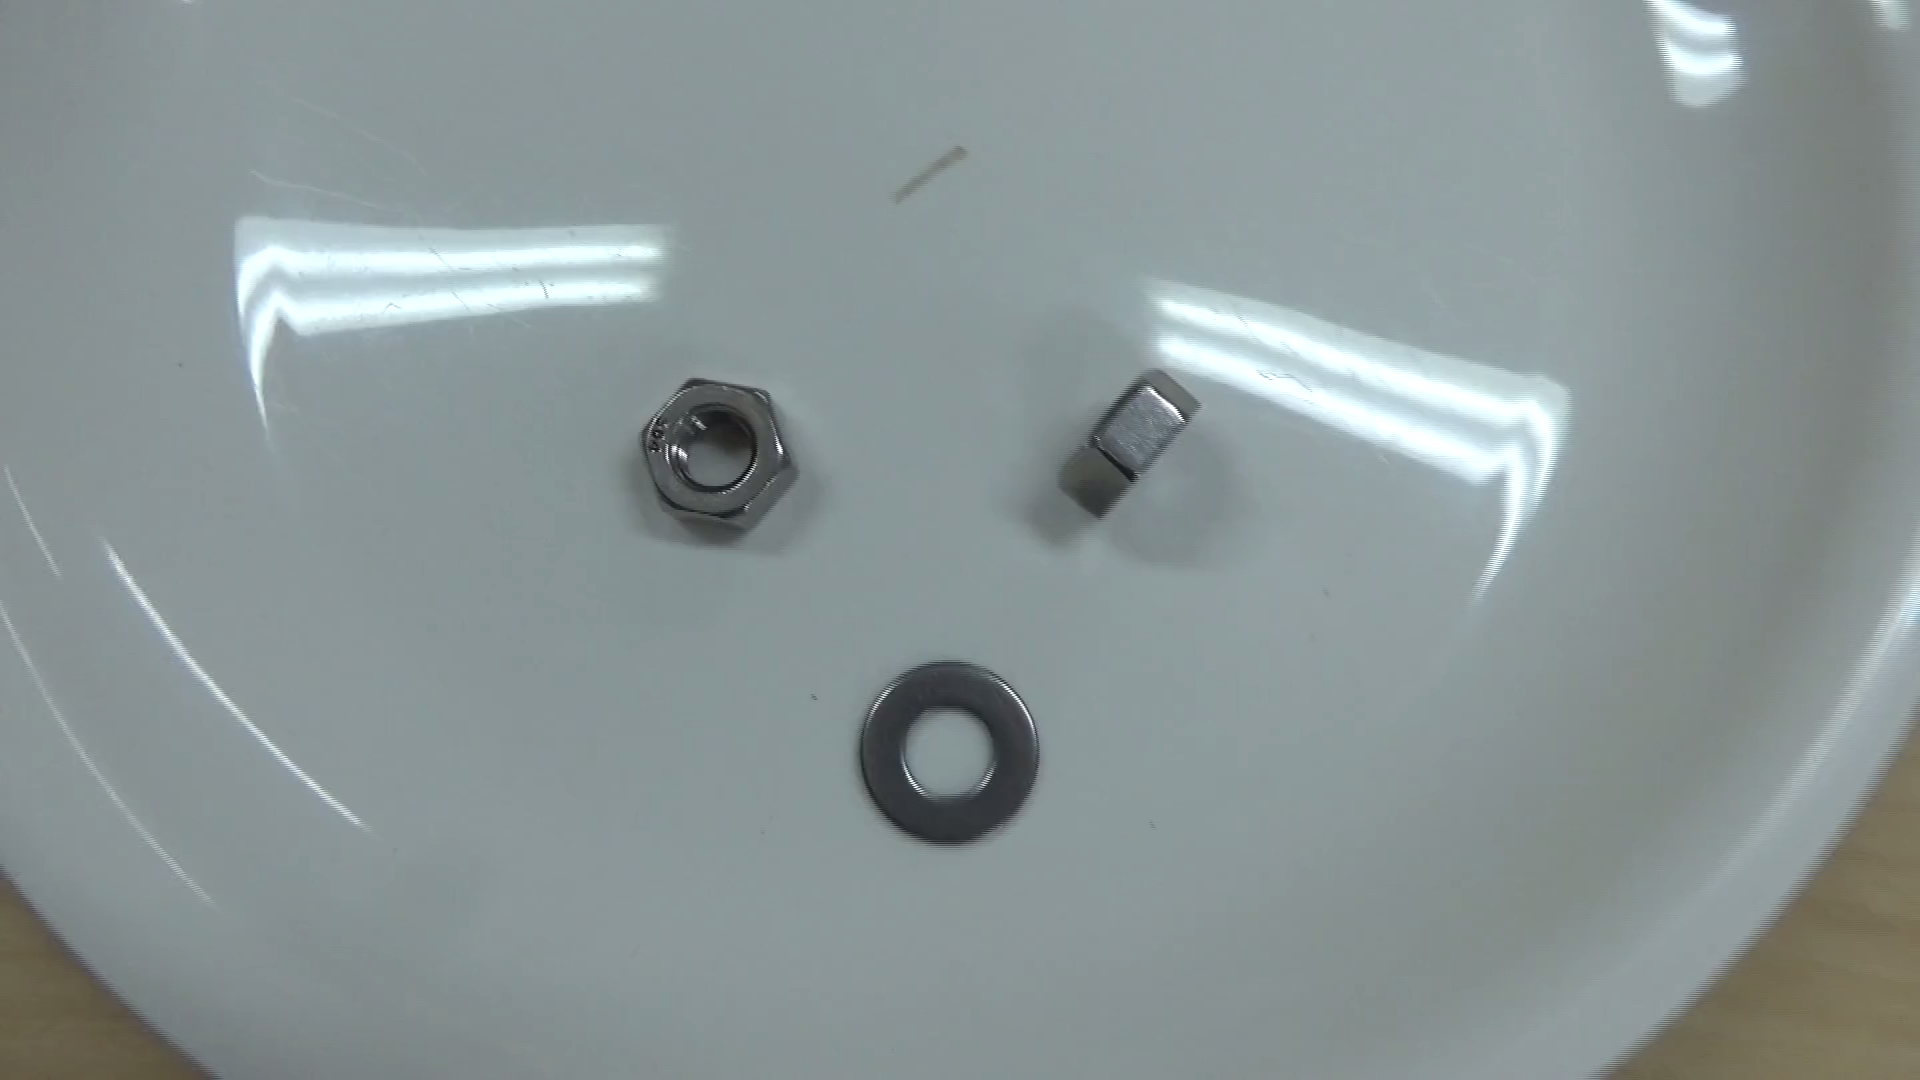nut: (618, 356, 806, 541), (1040, 343, 1209, 531)
washer: (843, 644, 1059, 858)
